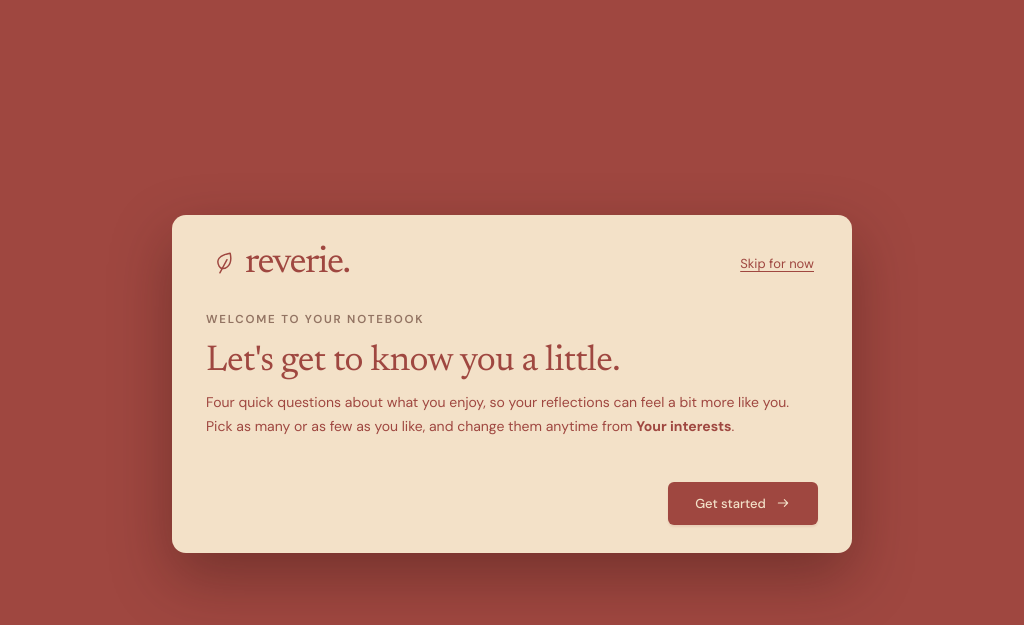
first-run onboarding (issue #7) › never blocks journaling when the profile service is unavailable or saving fails
This screenshot has width=1024, height=625.
Click the button "Skip for now".
click(777, 263)  # box [736,249,818,278]
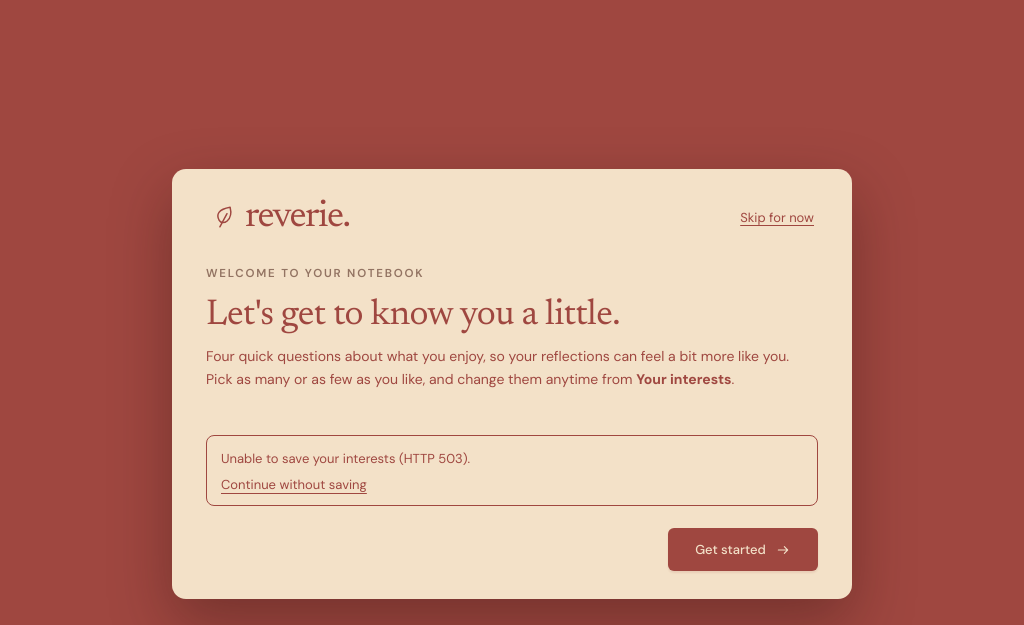
Now the message shows "HTTP 503", box [221,450,470,467]
Click the button "Continue without saving".
click(294, 484)  # box [221,476,367,493]
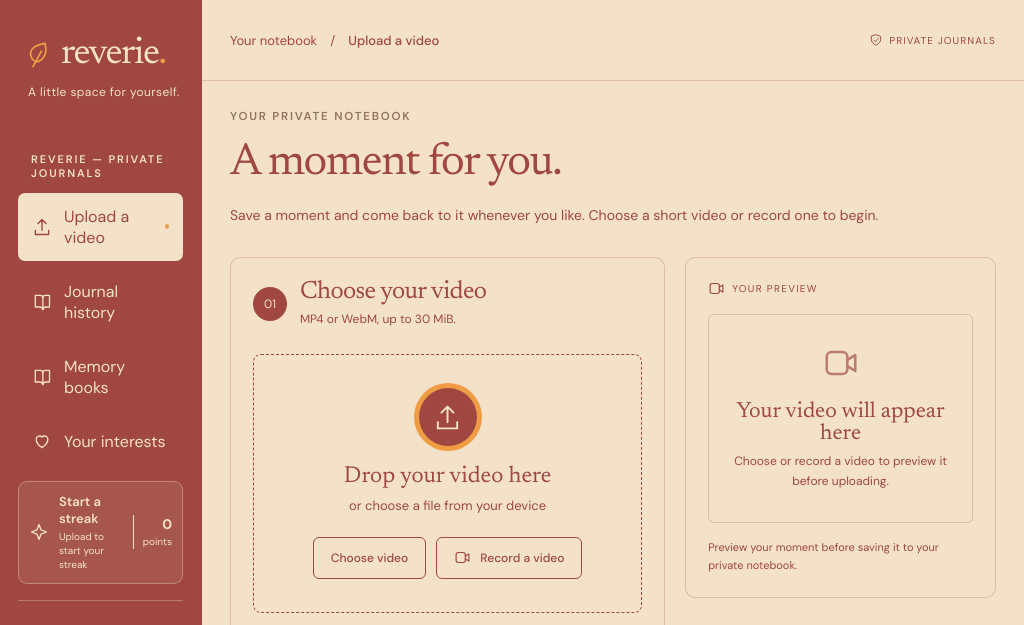
Now the dialog is gone
